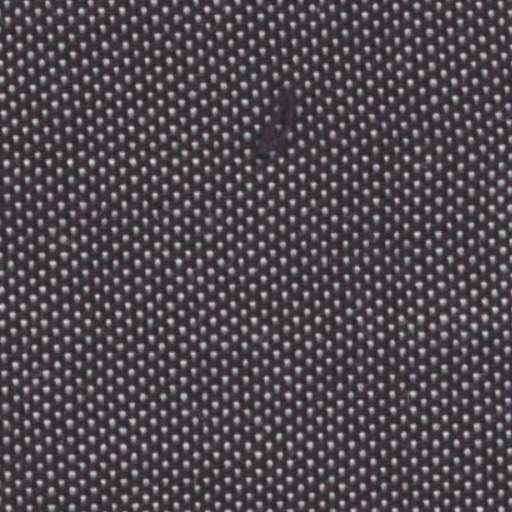DuanSha: (240, 74, 312, 174)
